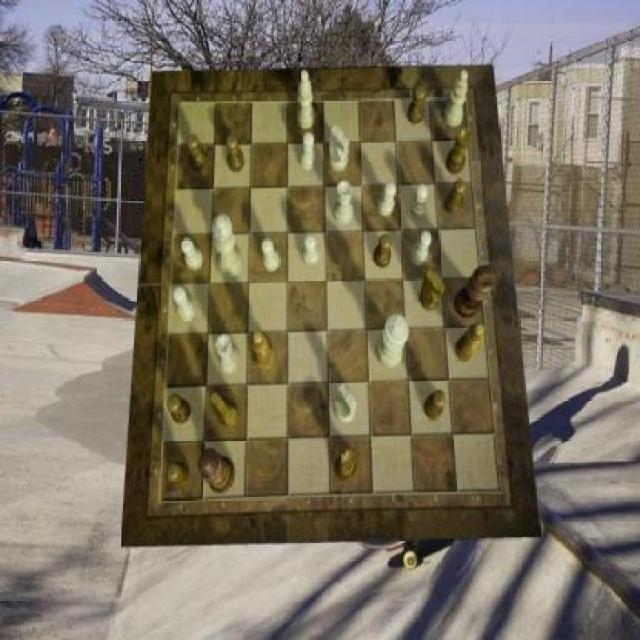bishop: (456, 323, 484, 365), (252, 331, 275, 371)
black-bishop: (454, 264, 497, 318)
black-king: (420, 269, 446, 312), (211, 392, 240, 430)
black-knight: (445, 178, 467, 214), (188, 135, 208, 173), (168, 394, 192, 424), (166, 463, 191, 491), (226, 134, 244, 172), (425, 389, 447, 420), (372, 234, 392, 268), (408, 84, 425, 124)
black-pawn: (199, 450, 236, 496)
black-queen: (446, 130, 471, 176), (335, 451, 358, 483)
black-rook: (445, 69, 469, 127), (297, 71, 316, 131)
white-bishop: (376, 312, 408, 367)
white-king: (329, 126, 350, 172), (334, 384, 357, 424)
white-knight: (174, 286, 197, 321), (181, 238, 204, 271), (411, 231, 432, 265), (377, 182, 397, 216), (262, 238, 280, 272), (411, 184, 428, 220), (300, 132, 316, 170), (302, 234, 319, 266)
white-pawn: (212, 214, 242, 279)
white-queen: (216, 334, 240, 374), (334, 180, 354, 225)
